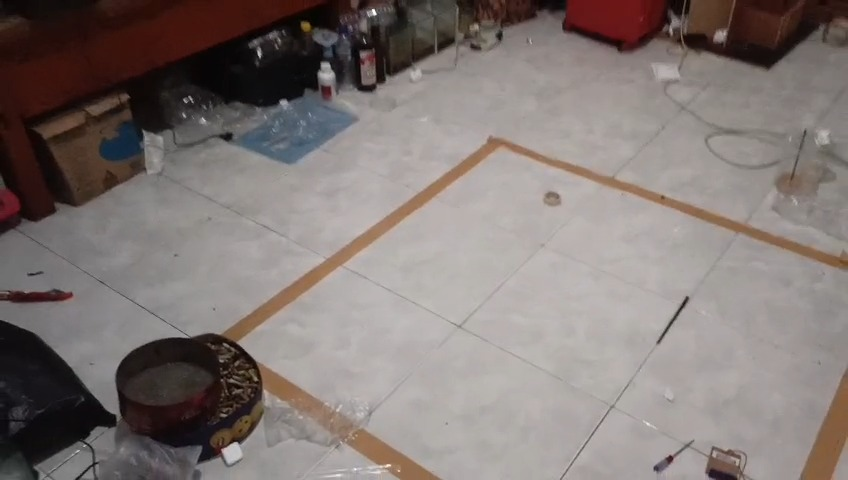floor marking: (223, 137, 847, 339), (260, 364, 351, 430), (801, 373, 847, 479), (350, 430, 439, 479)
